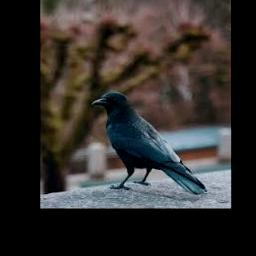Crow: (92, 91, 209, 195)
